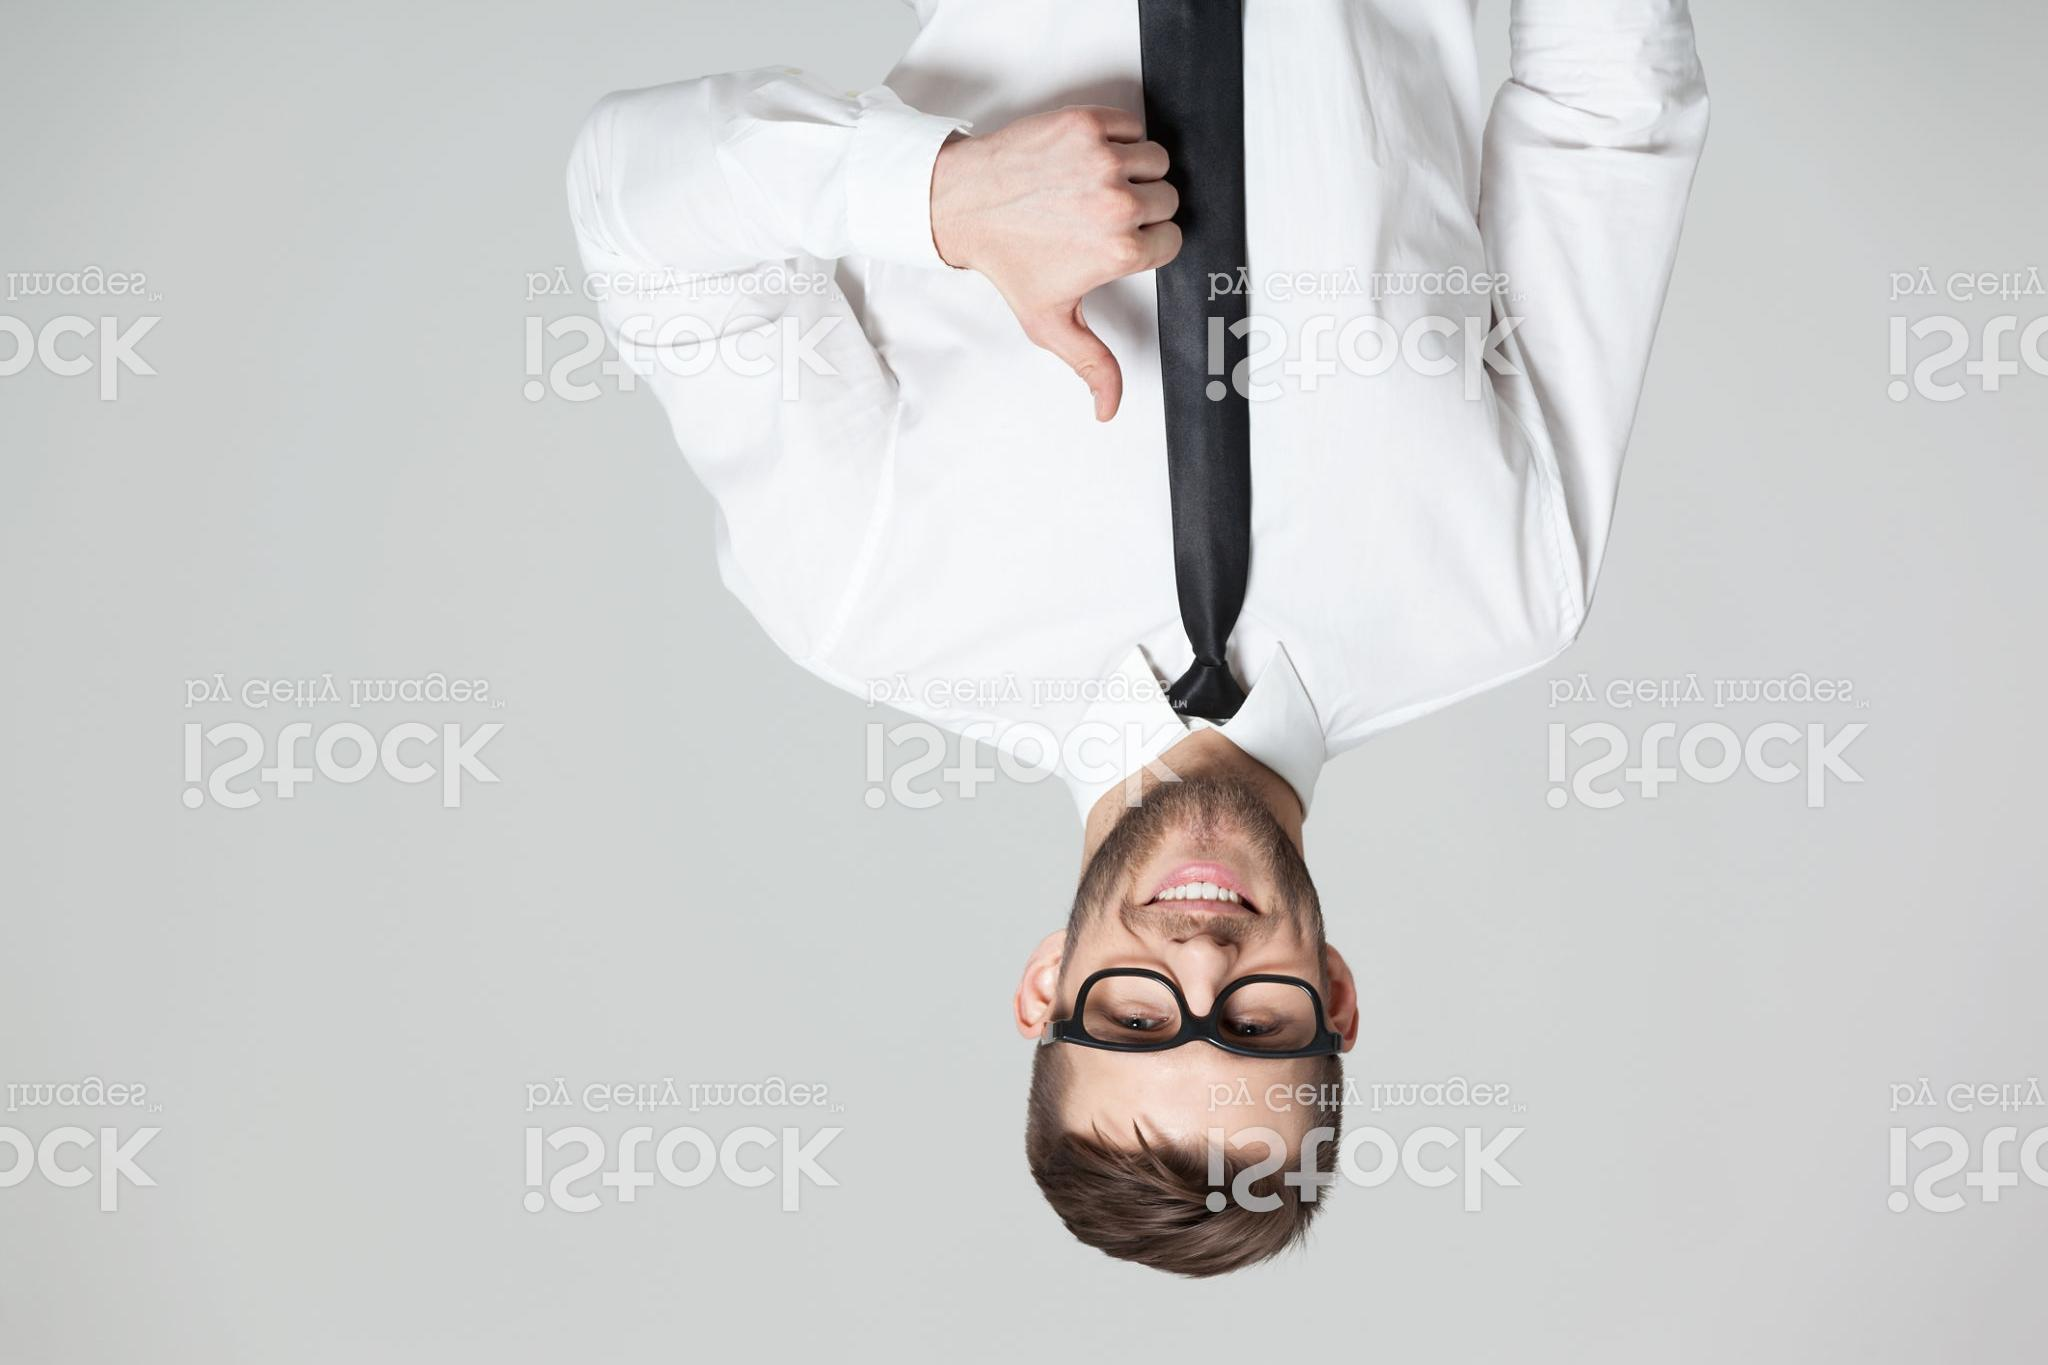thumbsdown: (990, 99, 1189, 424)
